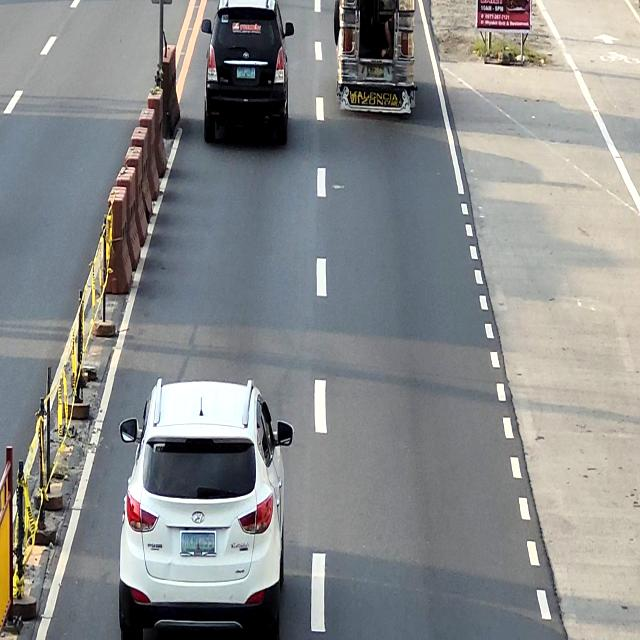Car: (118, 378, 294, 640), (201, 0, 294, 148)
Jeep: (333, 0, 417, 119)
License-Plate: (181, 533, 216, 555), (367, 65, 385, 78), (237, 68, 255, 79)
